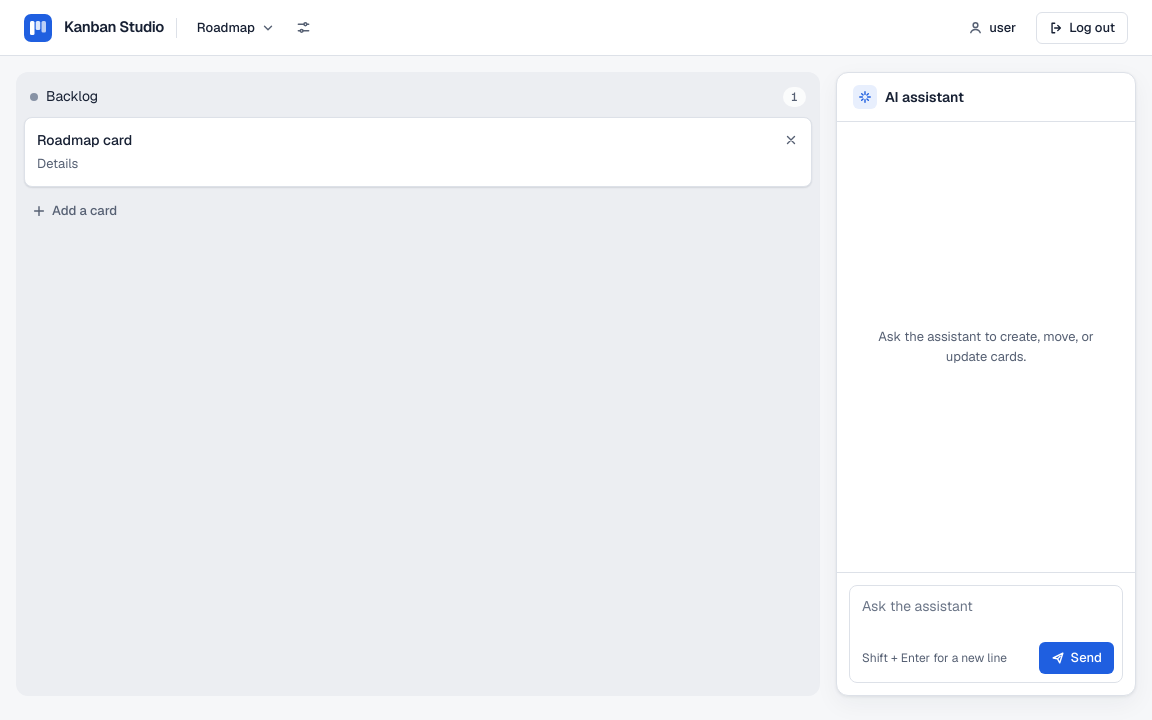
Boards › starts a fresh chat for each board and sends it to that board
Expected: the heading "Roadmap card" is shown, left=37, top=130, right=132, bottom=150
Type "hello" into the text box named "Chat message".
click(986, 612); type("hello")  # box left=850, top=586, right=1122, bottom=638
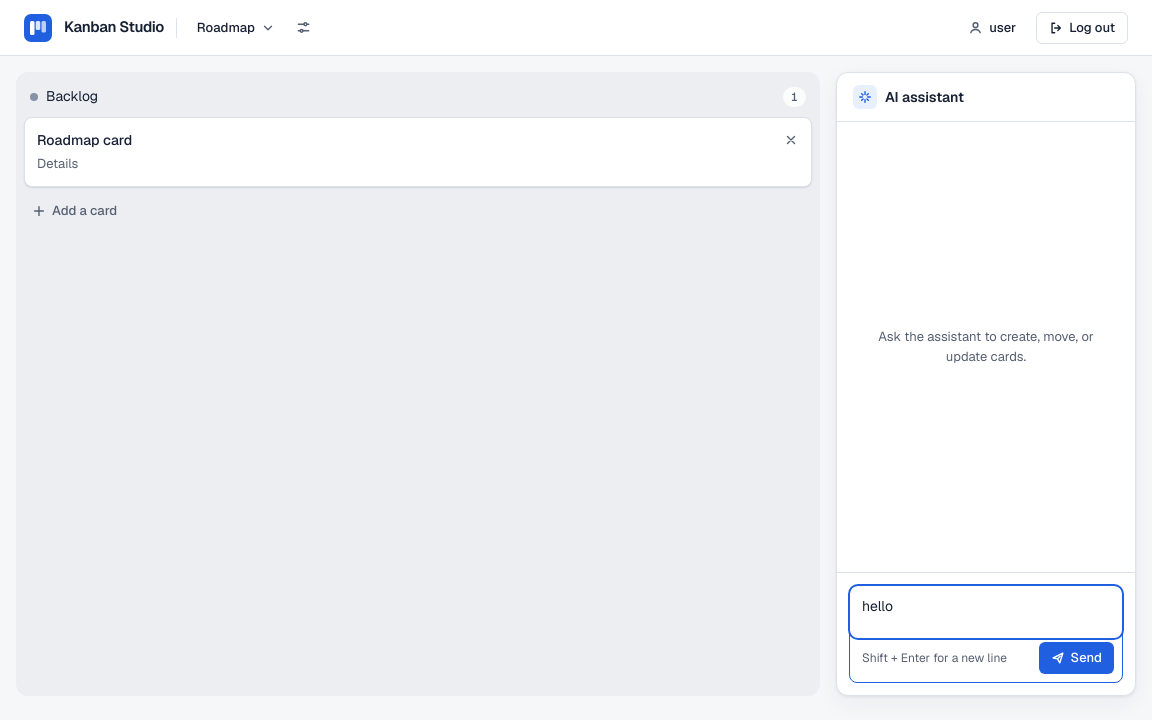
Click the button "Send".
click(1076, 658)  # box left=1039, top=642, right=1114, bottom=674
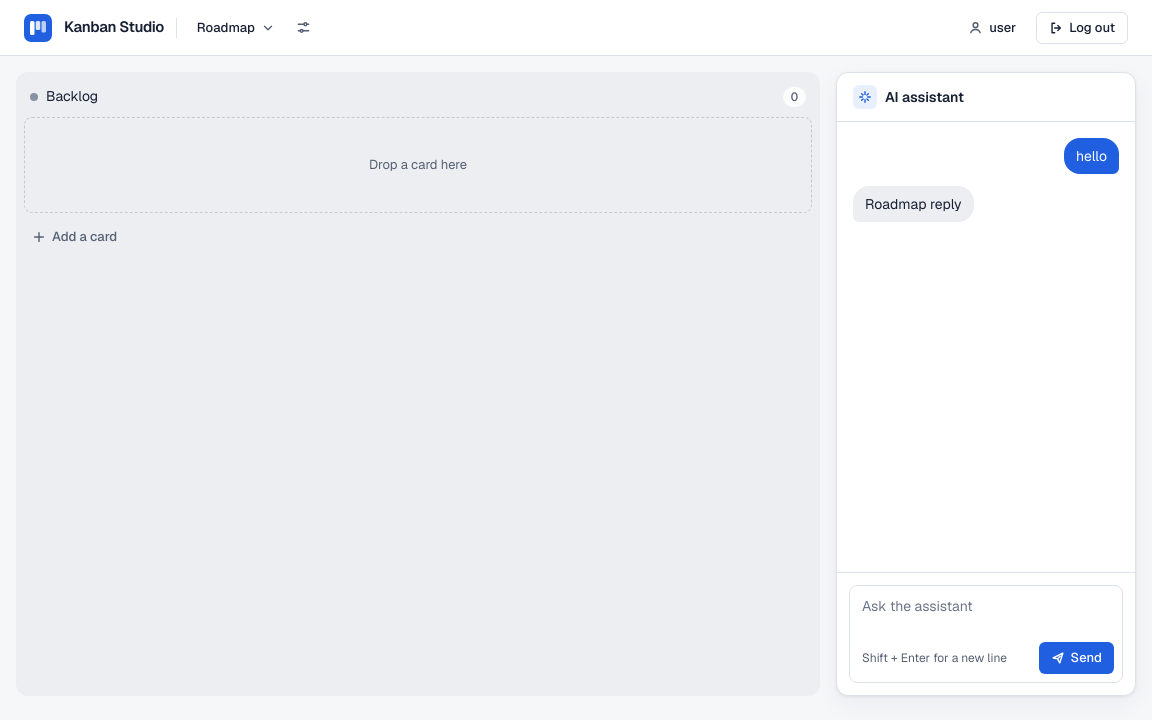
Expected: the text "Roadmap reply" is shown, left=853, top=186, right=974, bottom=222
Click the button named "switch board".
click(236, 28)  # box left=189, top=12, right=283, bottom=44
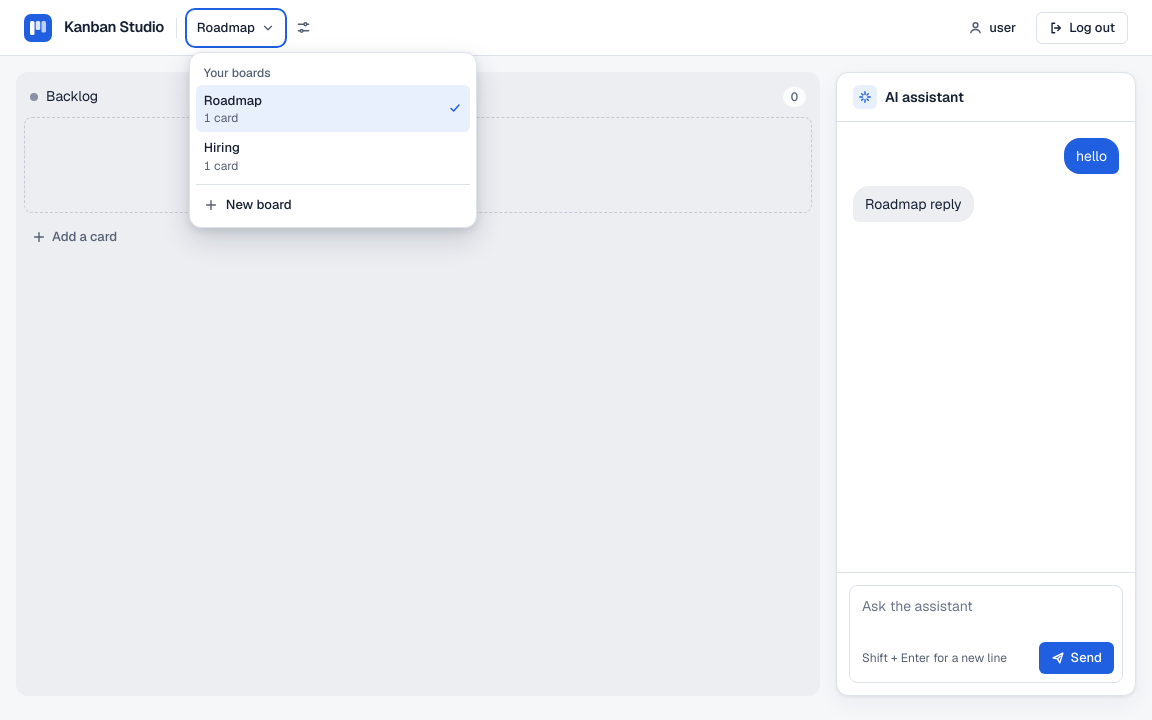
Click the menu item "Hiring 1 card".
click(222, 148)  # box left=196, top=132, right=470, bottom=180
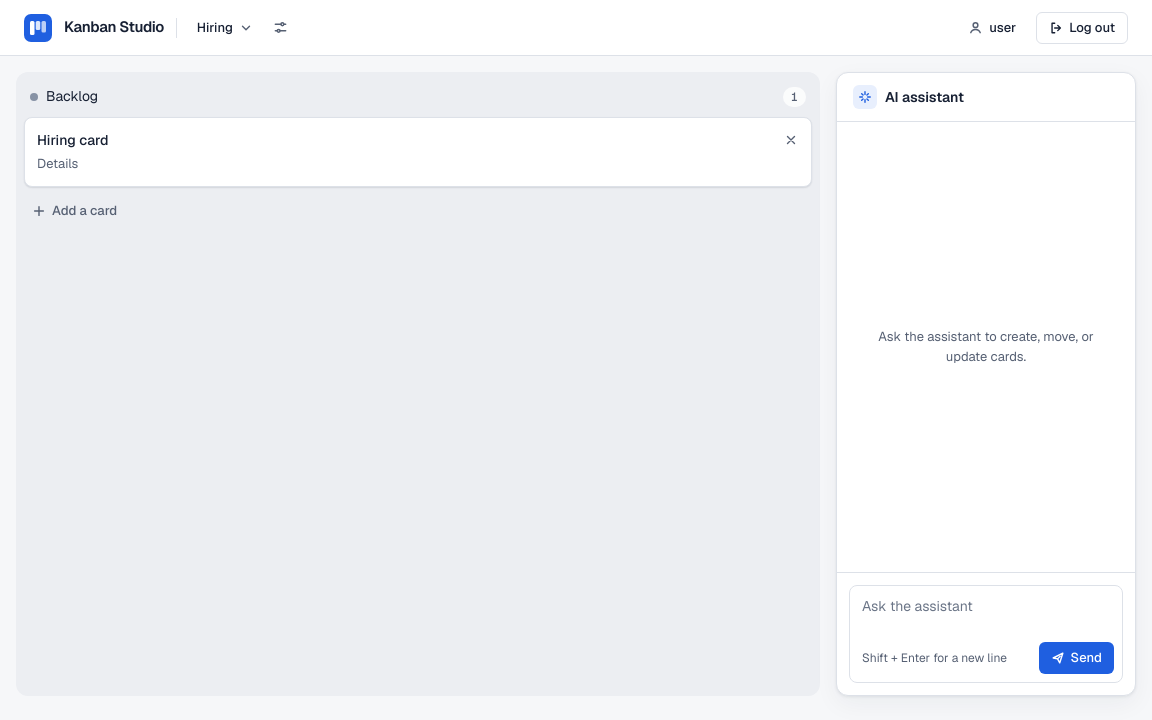
Expected: the heading "Hiring card" is shown, left=37, top=130, right=108, bottom=150
Expected: the text "Roadmap reply" is gone
Type "hi" into the text box named "Chat message".
click(986, 612); type("hi")  # box left=850, top=586, right=1122, bottom=638
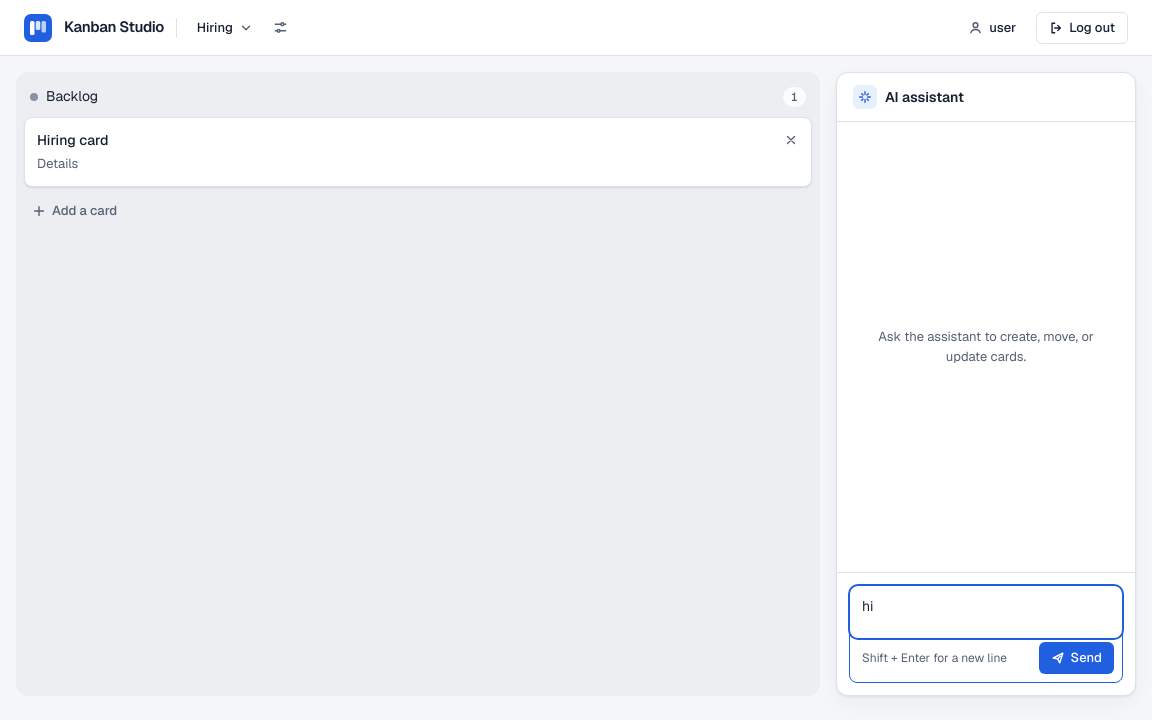
Click the button "Send".
click(1076, 658)  # box left=1039, top=642, right=1114, bottom=674
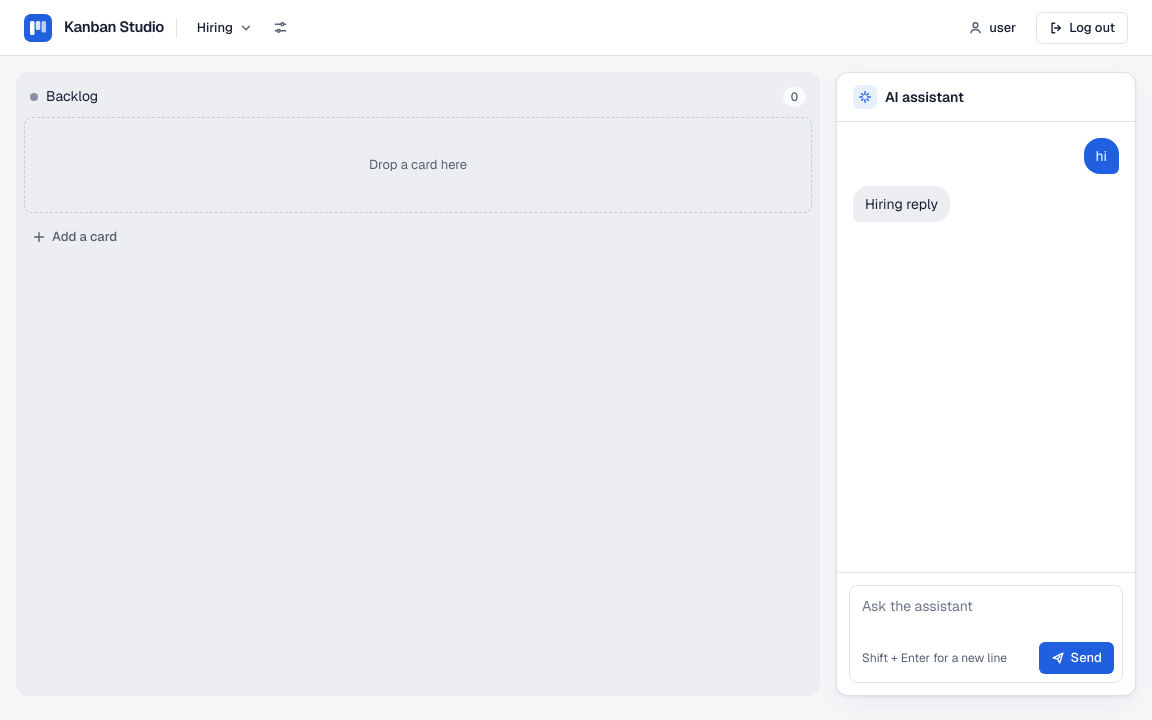
Expected: the text "Hiring reply" is shown, left=853, top=186, right=950, bottom=222
